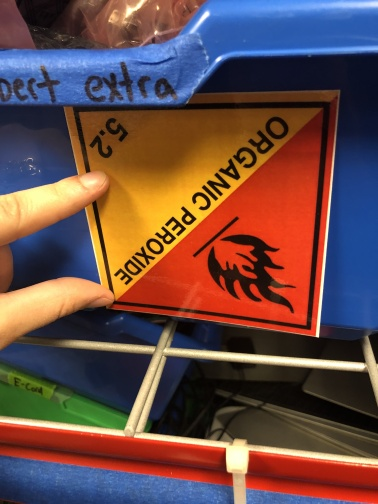OrganicPeroxide: (58, 89, 341, 340)
